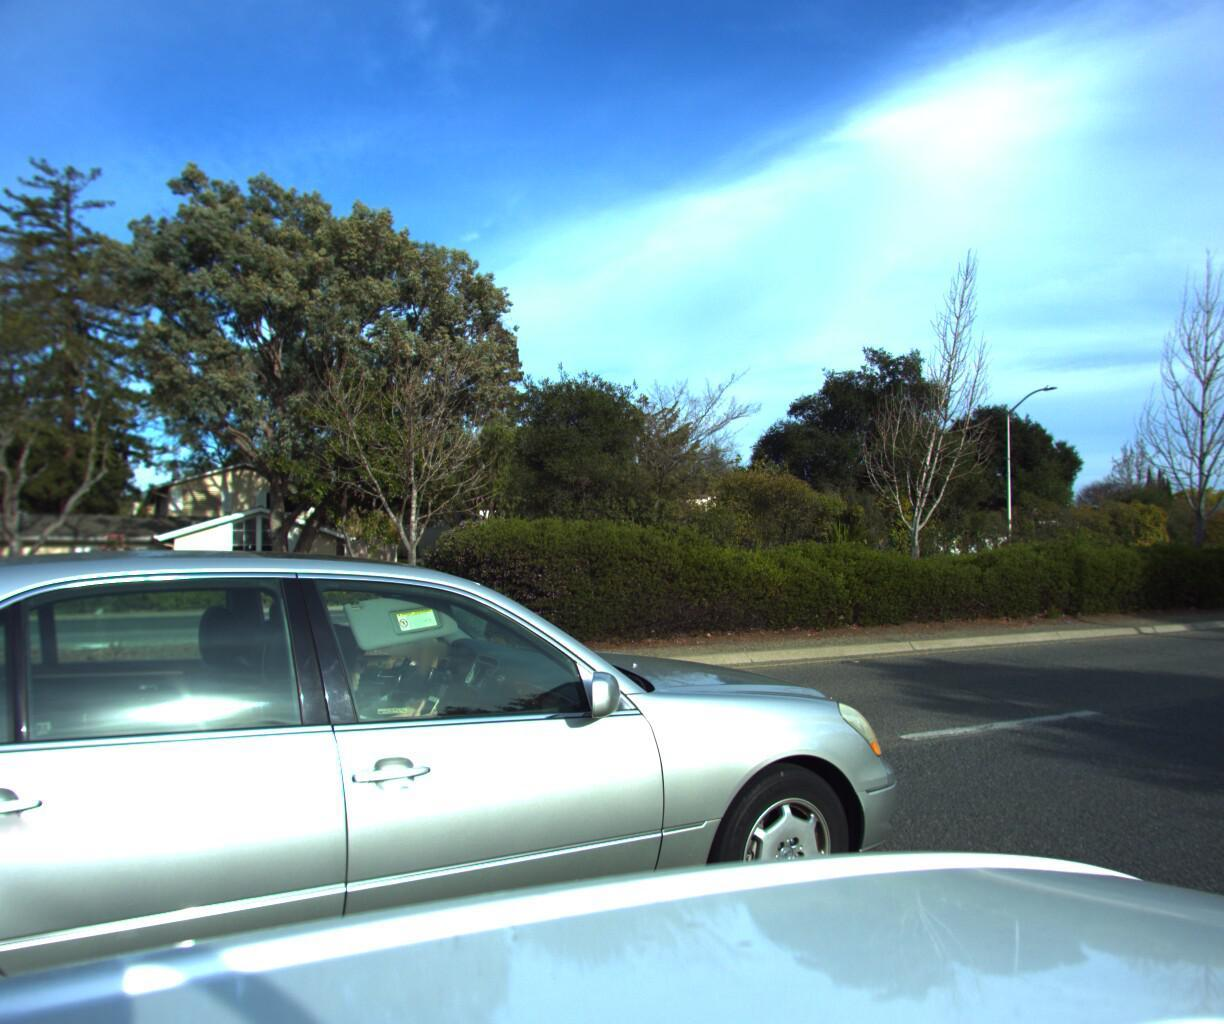car: (0, 543, 943, 1024), (380, 542, 602, 612)
